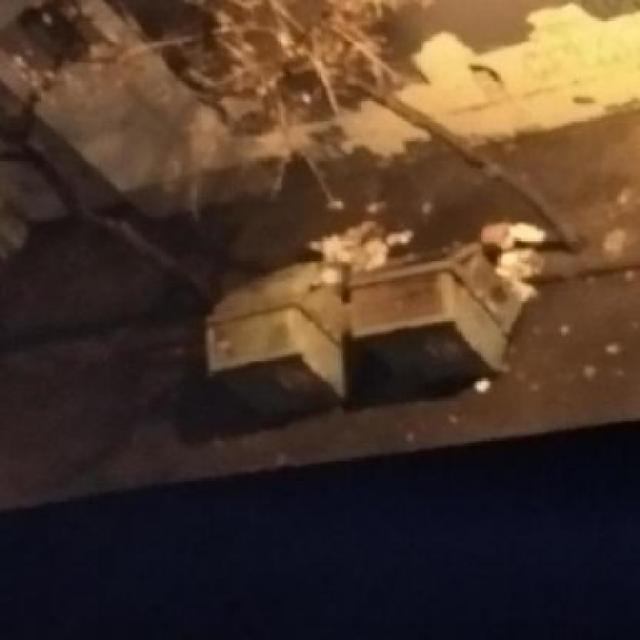garbage: (172, 261, 566, 396), (318, 197, 540, 290)
